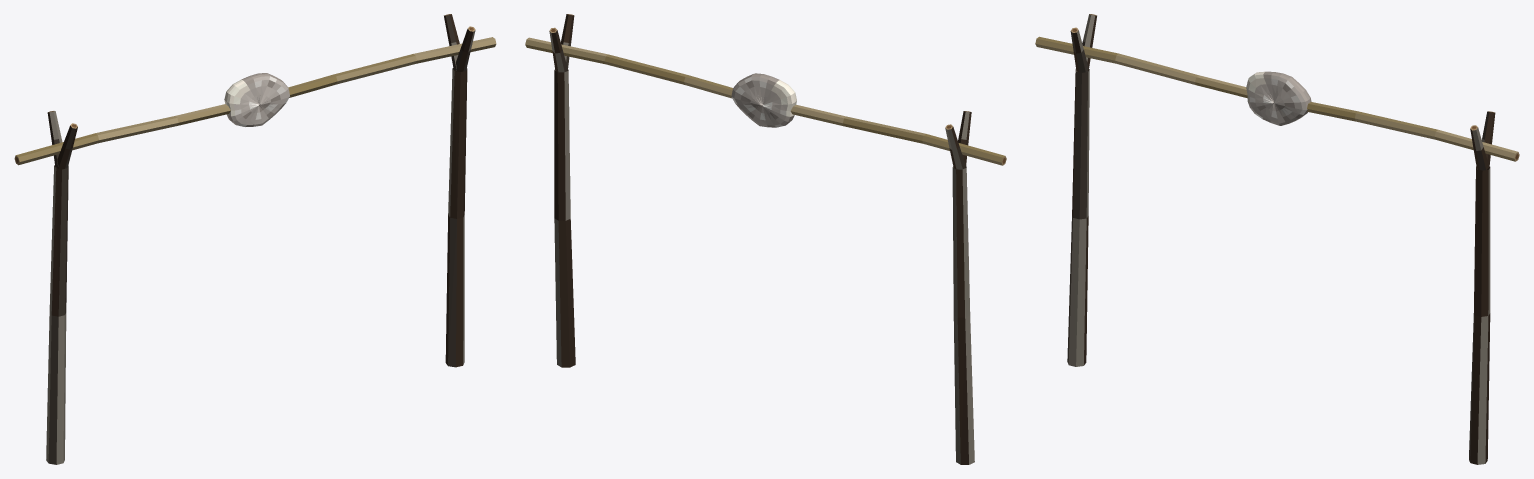
File: spit.glb
The picture shows the model from 3 angles, left to right: view 1: azimuth 30°, elevation 25°; view 2: azimuth 150°, elevation 25°; view 3: azimuth 330°, elevation 25°; orthographic projection.
Visible parts, largest first — view 1: spit, spit-meat; view 2: spit, spit-meat; view 3: spit, spit-meat.
Part boxes in pixels (left/top/right/bottom): spit: left=14, top=14, right=496, bottom=464; spit-meat: left=224, top=73, right=289, bottom=126; spit: left=525, top=14, right=1006, bottom=464; spit-meat: left=731, top=73, right=796, bottom=127; spit: left=1035, top=14, right=1519, bottom=464; spit-meat: left=1246, top=71, right=1311, bottom=125.
Size of the model in its own units: 1.48 by 1.01 by 0.1304.
